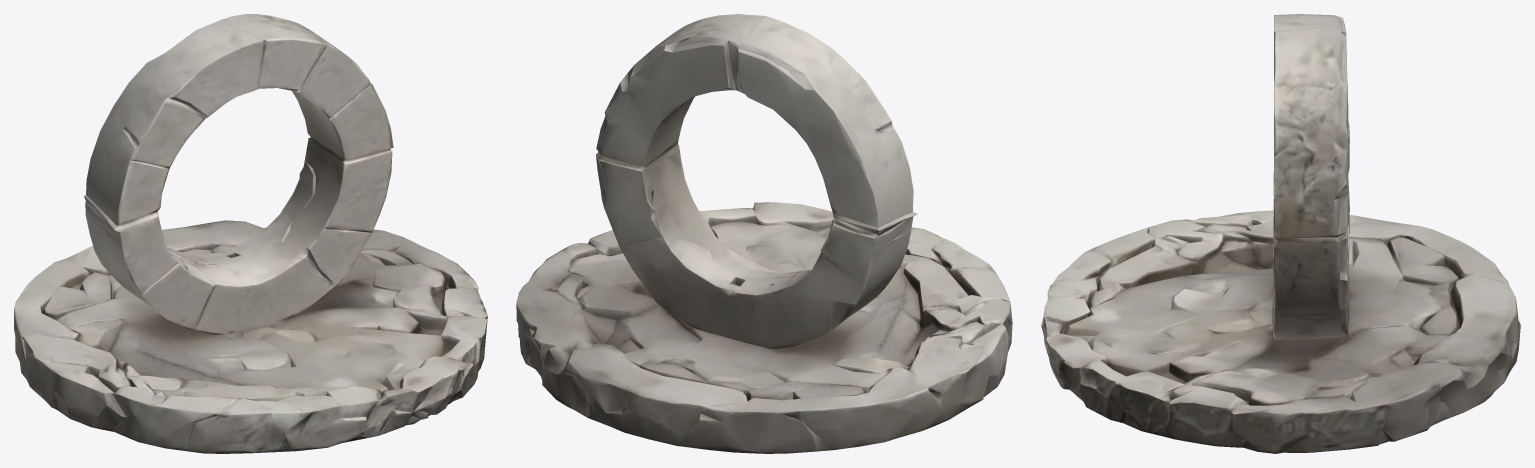
File: m2StoneRingBg.glb
The picture shows the model from 3 angles, left to right: view 1: azimuth 30°, elevation 25°; view 2: azimuth 150°, elevation 25°; view 3: azimuth 270°, elevation 25°; orthographic projection. The views are drawn at different scales.
Visible parts, largest first — view 1: model; view 2: model; view 3: model.
Boxes of the visible parts, x1,y1,x2,y2 form: model: (14,14,487,453); model: (516,14,1012,453); model: (1041,14,1520,453).
Bounding box in the file's own units: 1.9 × 1.4 × 1.87.
Materials: 1 (1 with a texture image).
